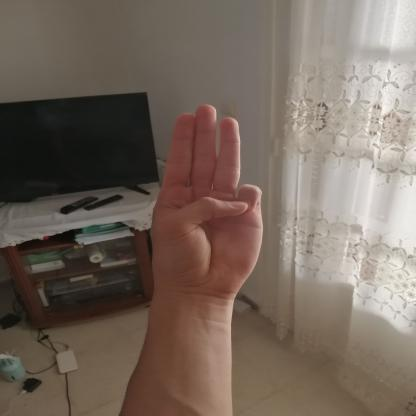THA: (133, 92, 276, 305)
